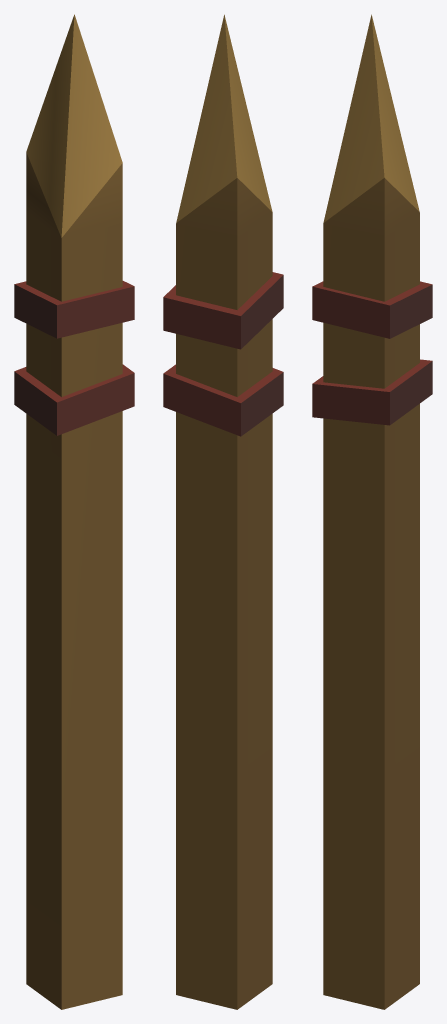
Rendered from ST_Prop_Spike_01.fbx.
3 renders of one model, left to right at view 1: azimuth 30°, elevation 25°; view 2: azimuth 150°, elevation 25°; view 3: azimuth 330°, elevation 25°, orthographic.
Visible parts, largest first — view 1: ST_Prop_Spike_01; view 2: ST_Prop_Spike_01; view 3: ST_Prop_Spike_01.
Part boxes in pixels (left/top/right/bottom): ST_Prop_Spike_01: left=14, top=14, right=134, bottom=1009; ST_Prop_Spike_01: left=163, top=14, right=283, bottom=1009; ST_Prop_Spike_01: left=312, top=14, right=432, bottom=1009.
Size of the model in its own units: 0.3226 by 3.87 by 0.3078.
